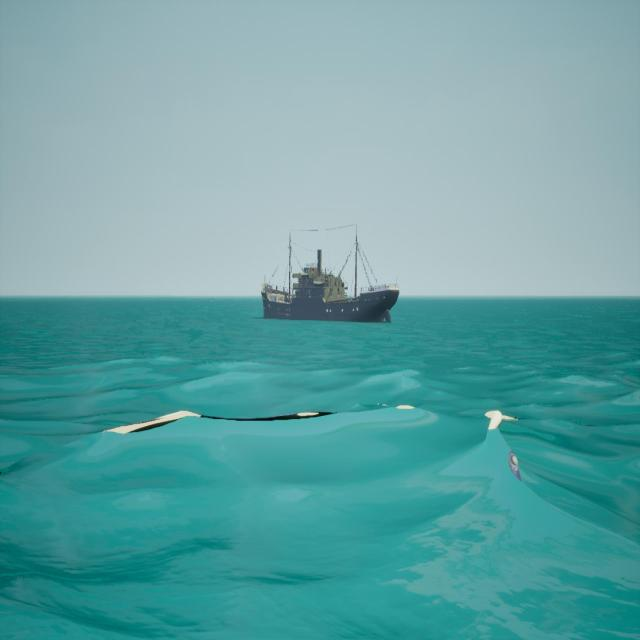fishing ship: (261, 226, 400, 324)
